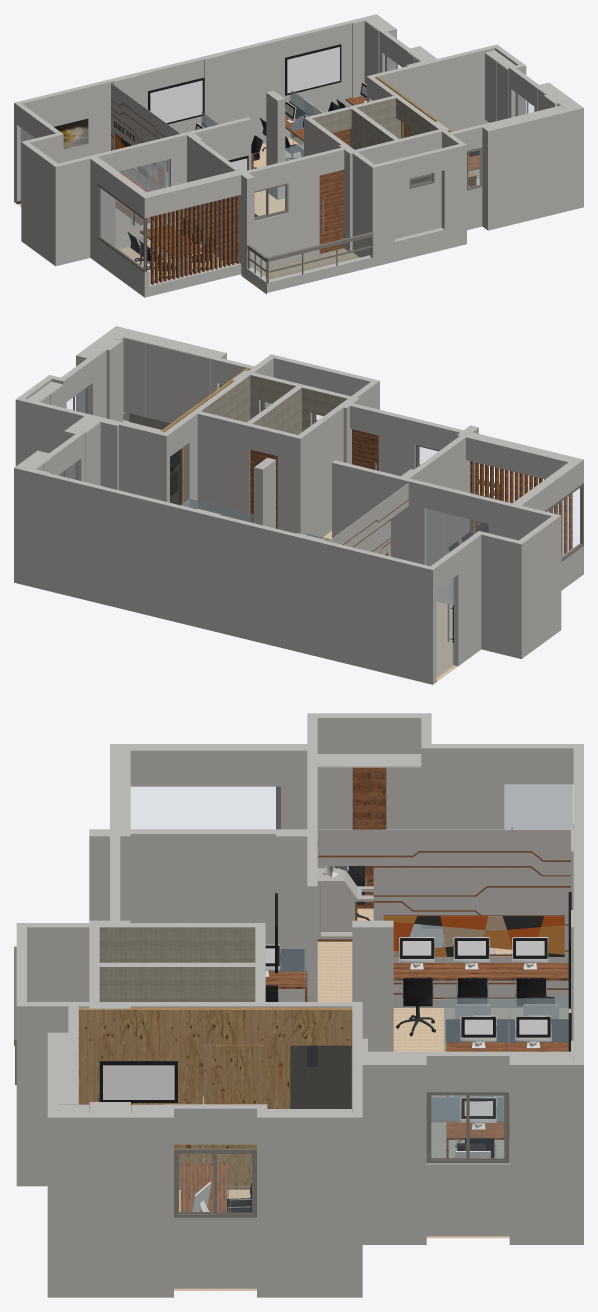
The model's file is office-hq.glb.
3 renders of one model, top to bottom at view 1: azimuth 30°, elevation 25°; view 2: azimuth 150°, elevation 25°; view 3: azimuth 270°, elevation 25°, orthographic. The views are drawn at different scales.
Parts seen in each view (by area): view 1: matte, wood, glass, tile, satin, screen, parquet, art, panel; view 2: matte, glass, wood, tile, parquet, satin, panel; view 3: matte, glass, panel, wood, tile, parquet, satin, screen.
Part boxes in pixels (x1,y1,x2,y2): matte: (14,14,583,297); wood: (111,96,479,284); glass: (20,57,533,267); tile: (256,98,438,279); satin: (97,44,434,283); screen: (150,47,366,170); parquet: (17,137,303,294); art: (54,118,88,149); panel: (375,76,476,187); matte: (14,326,583,684); glass: (59,389,580,677); wood: (170,429,572,556); tile: (201,375,479,524); parquet: (170,464,457,681); satin: (260,400,583,643); panel: (160,368,249,505); matte: (16,713,583,1297); glass: (131,784,573,1211); panel: (79,1007,352,1189); wood: (180,767,570,1212); tile: (99,927,255,1163); parquet: (174,908,570,1290); satin: (14,786,571,1211); screen: (103,941,547,1115).
Bounding box in the file's own units: 20 × 4.25 × 11.92.
Materials: 10 (6 with a texture image).
